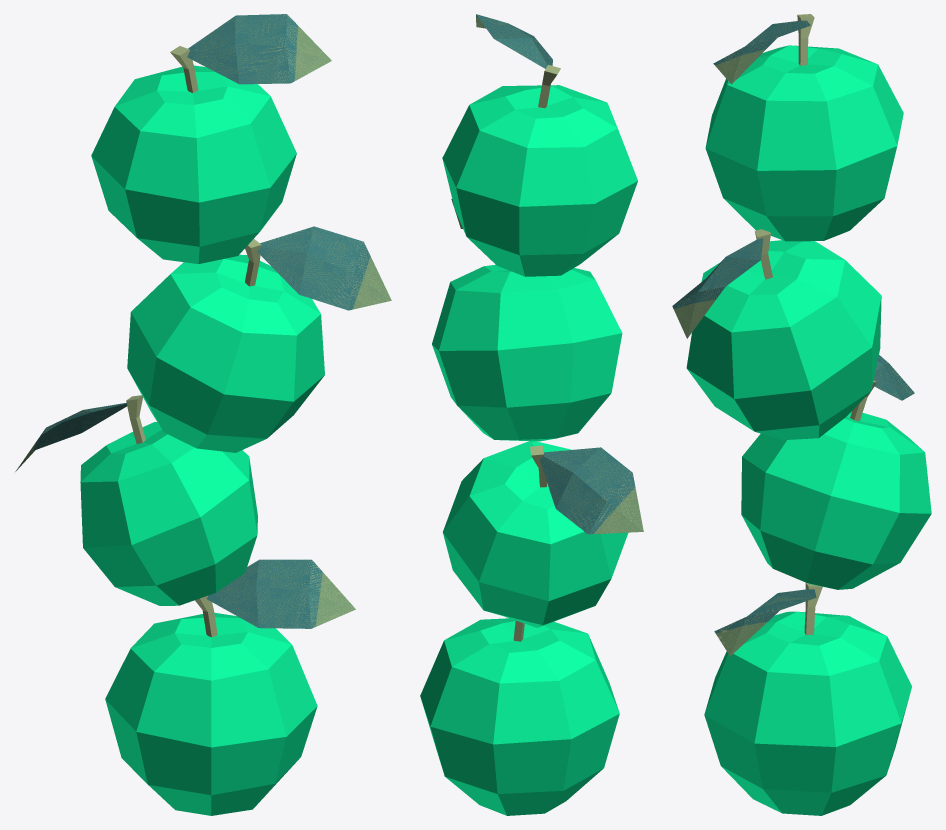
File: 001_Apple.fbx
The picture shows the model from 3 angles, left to right: view 1: azimuth 30°, elevation 25°; view 2: azimuth 150°, elevation 25°; view 3: azimuth 270°, elevation 25°; orthographic projection. The views are drawn at different scales.
Parts seen in each view (by area): view 1: Apple; view 2: Apple; view 3: Apple.
Boxes of the visible parts, left/top/right/bottom form: Apple: left=15, top=14, right=391, bottom=815; Apple: left=420, top=14, right=643, bottom=815; Apple: left=672, top=14, right=931, bottom=815.
Size of the model in its own units: 51.87 by 138 by 40.72.
